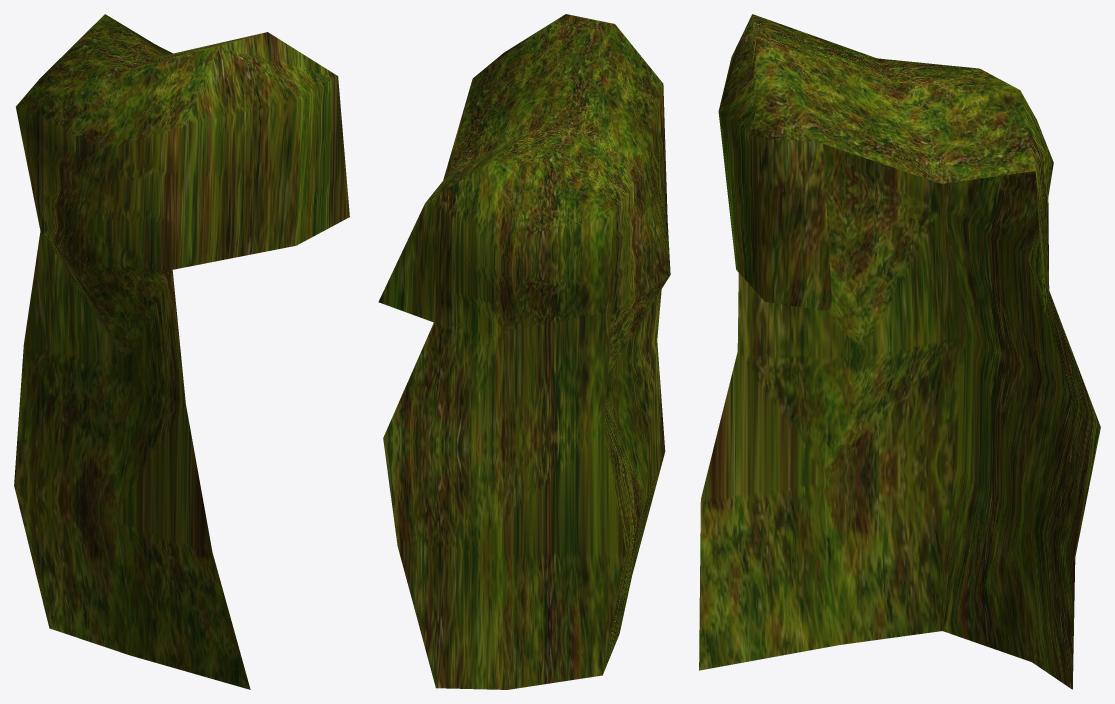
Rendered from TROLLHOLE02_RM_PSURF191.fbx.
The picture shows the model from 3 angles, left to right: view 1: azimuth 30°, elevation 25°; view 2: azimuth 150°, elevation 25°; view 3: azimuth 270°, elevation 25°; orthographic projection. The views are drawn at different scales.
Visible parts, largest first — view 1: TROLLHOLE02_RM_PSURF191; view 2: TROLLHOLE02_RM_PSURF191; view 3: TROLLHOLE02_RM_PSURF191.
Boxes of the visible parts, x1,y1,x2,y2 form: TROLLHOLE02_RM_PSURF191: [14, 14, 349, 689]; TROLLHOLE02_RM_PSURF191: [378, 14, 670, 689]; TROLLHOLE02_RM_PSURF191: [699, 14, 1100, 689].
Bounding box in the file's own units: 39792 × 90024 × 49938.
1 material, 1 textured.
